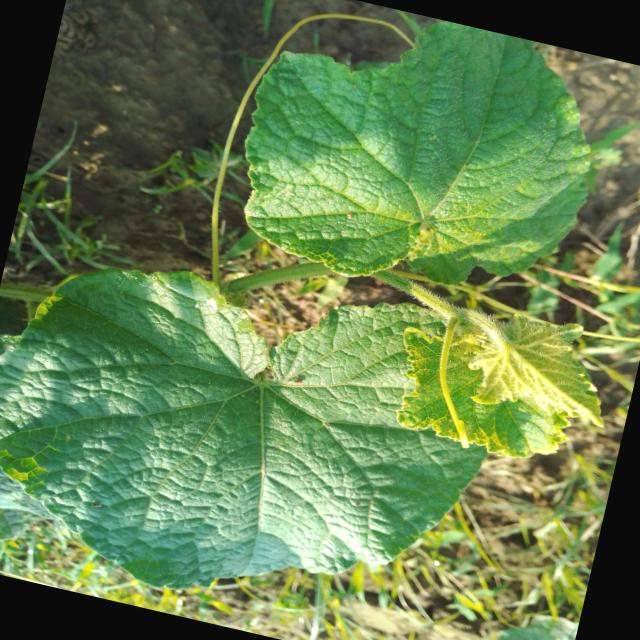cucumber_healthy: (0, 200, 522, 640), (213, 0, 619, 334), (372, 266, 632, 500)
